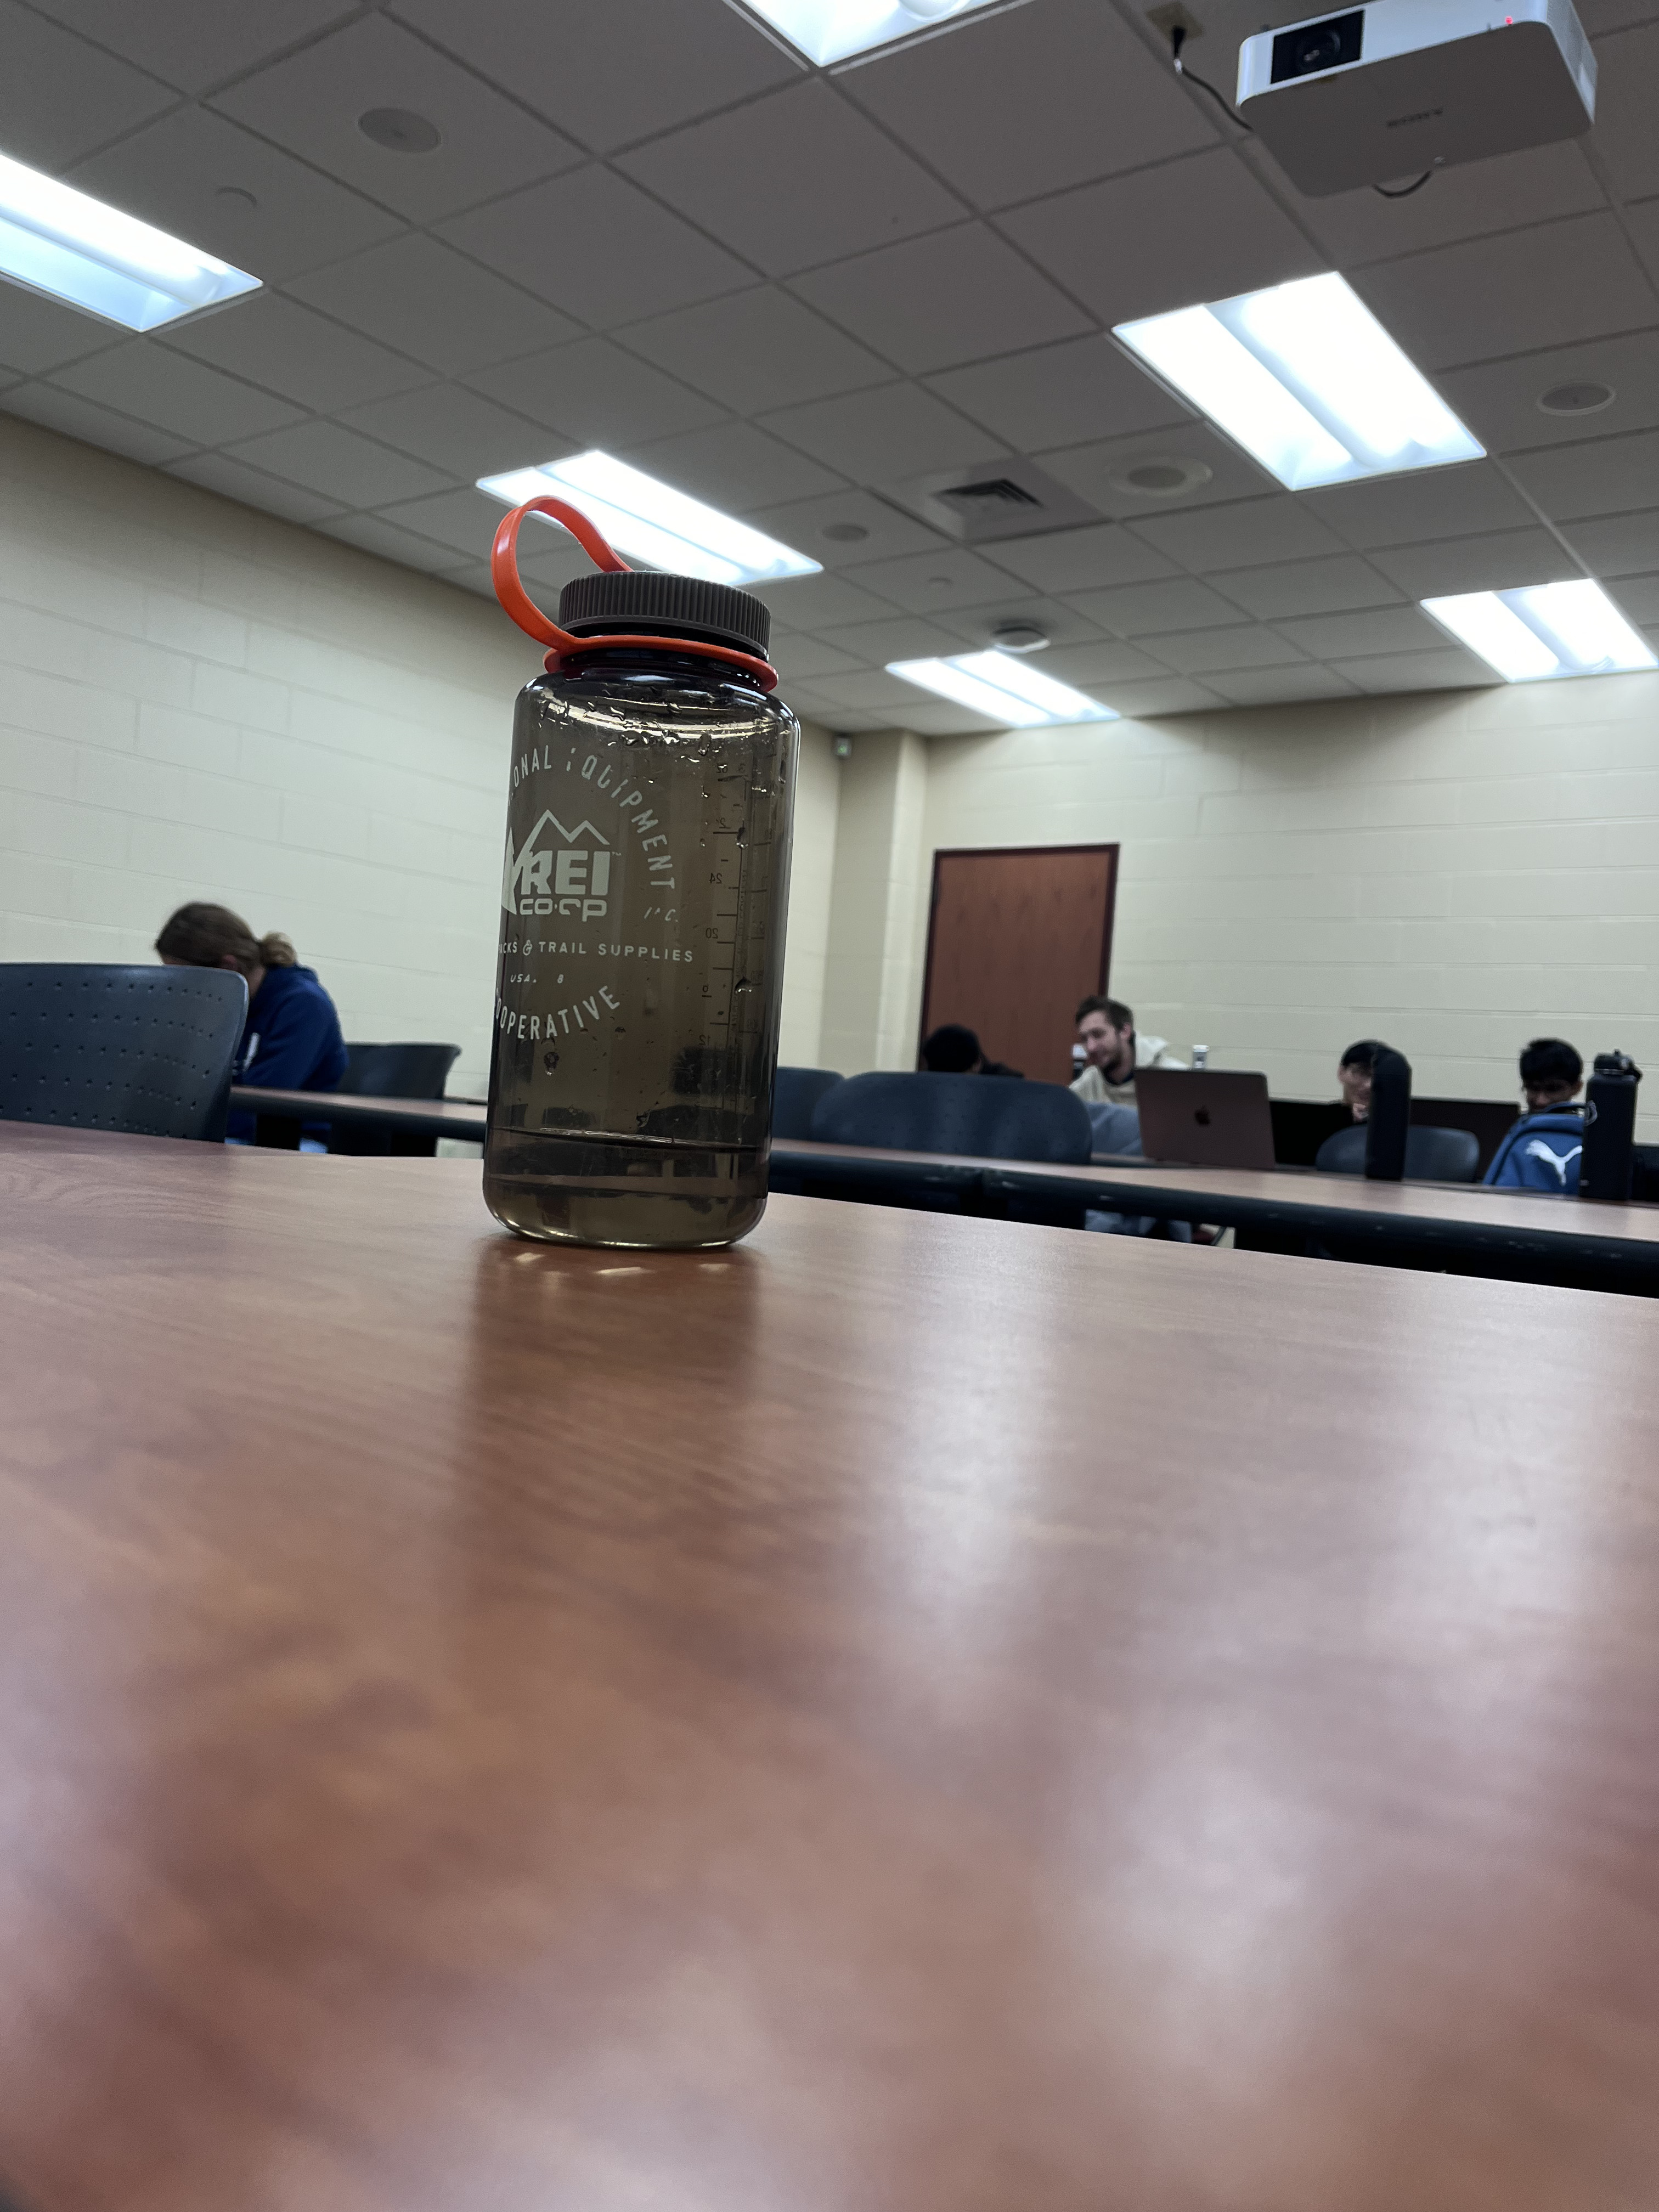bottle: (479, 486, 802, 1268)
